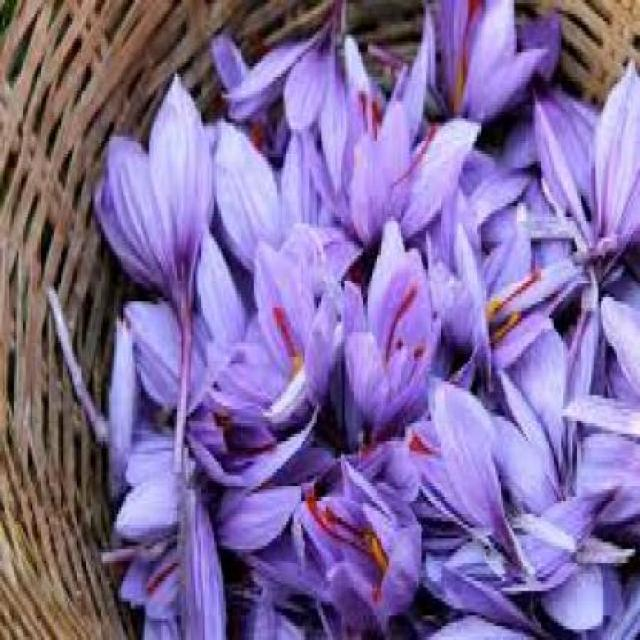Flower: (79, 73, 219, 310), (225, 12, 362, 188)
stigma: (296, 488, 388, 575), (485, 266, 546, 327), (384, 287, 418, 365), (454, 1, 478, 104), (271, 304, 301, 371)
